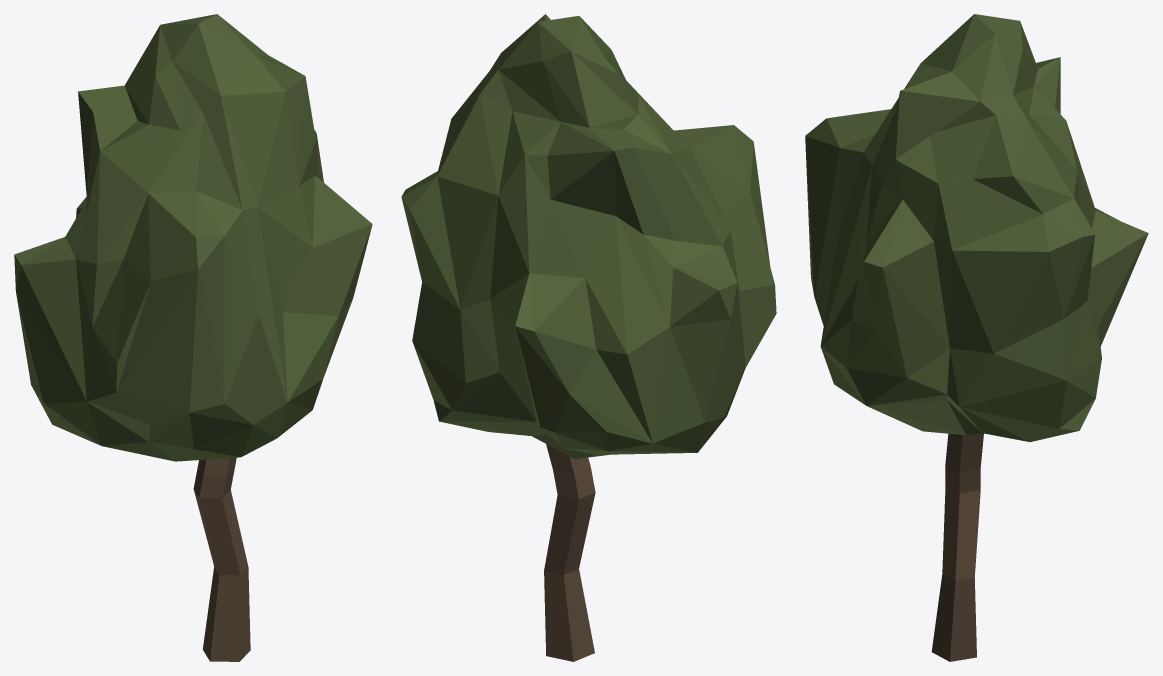
The model's file is Tree_30.gltf.
The picture shows the model from 3 angles, left to right: view 1: azimuth 30°, elevation 25°; view 2: azimuth 150°, elevation 25°; view 3: azimuth 270°, elevation 25°; orthographic projection. The views are drawn at different scales.
Parts seen in each view (by area): view 1: Tree_30; view 2: Tree_30; view 3: Tree_30.
Part boxes in pixels (x1,y1,x2,y2): Tree_30: (14,14,372,661); Tree_30: (401,14,776,661); Tree_30: (805,14,1148,661).
Bounding box in the file's own units: 0.4231 × 0.8553 × 0.4238.
Materials: 1 (1 with a texture image).
